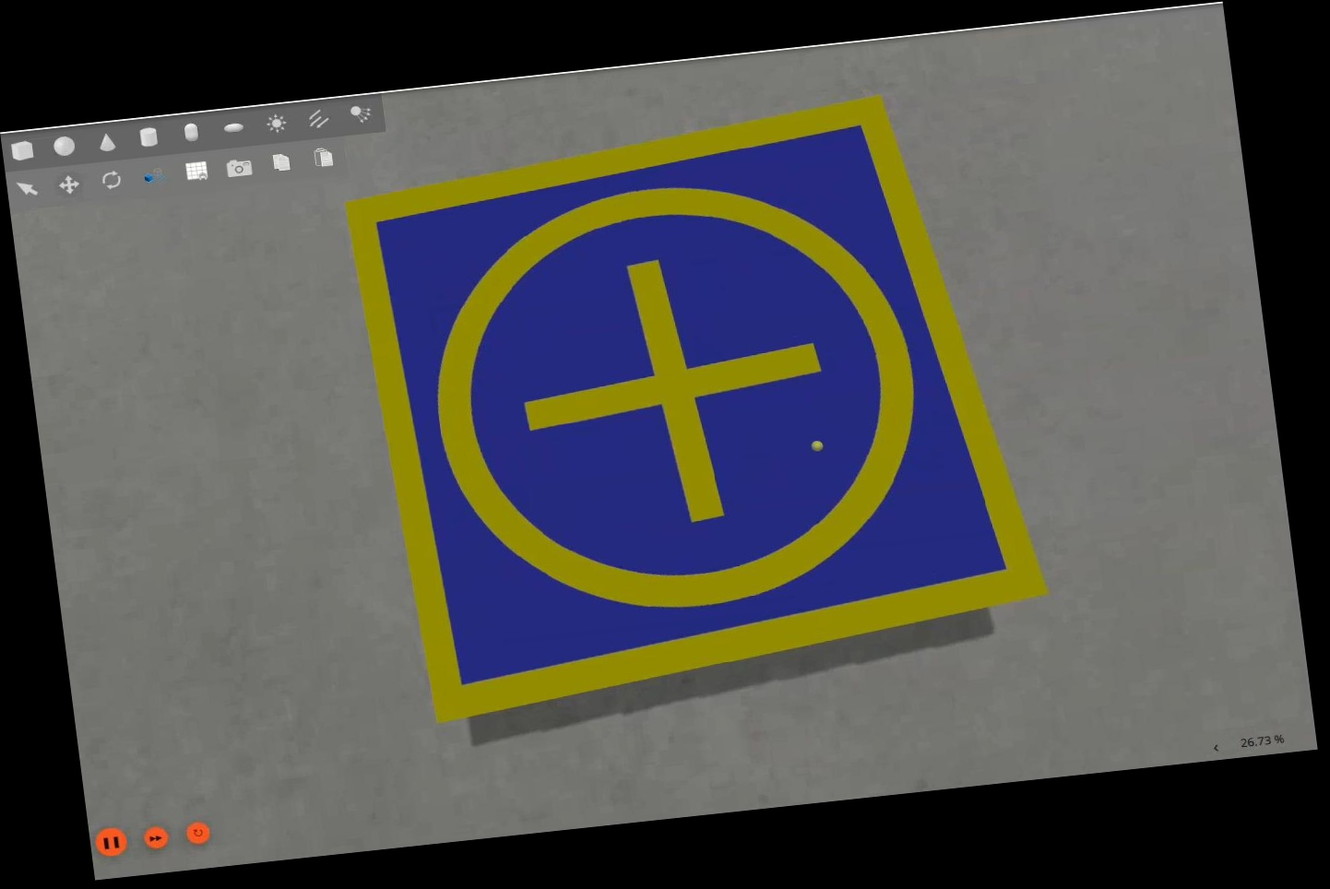small_base: (331, 87, 1060, 732)
